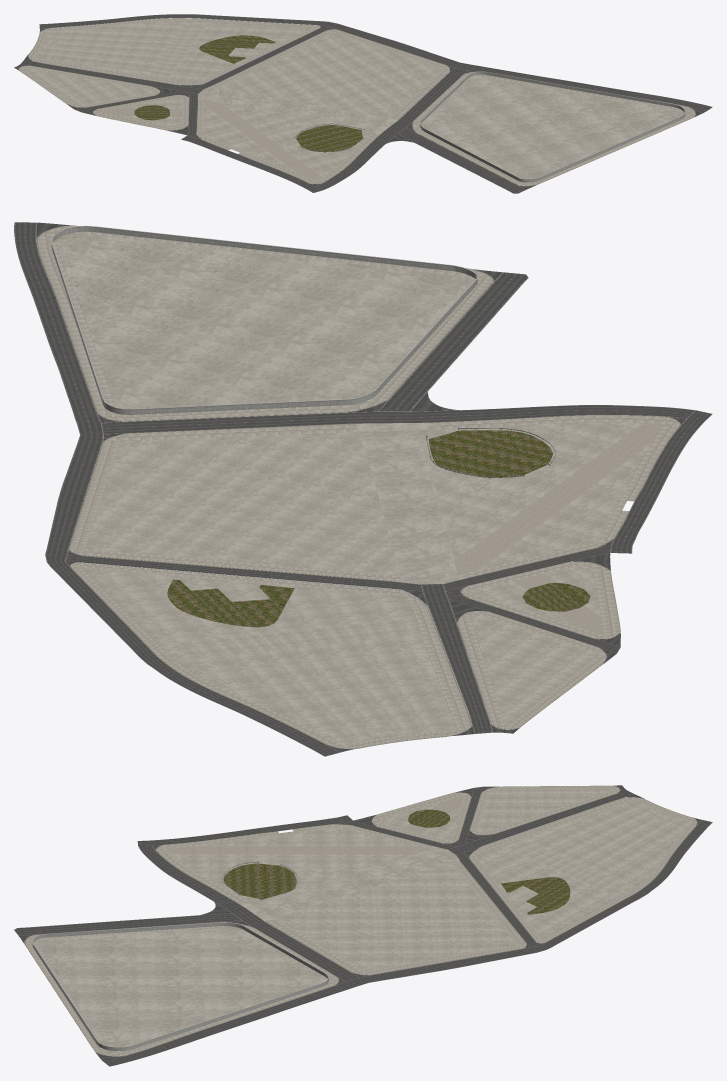
3 renders of one model, top to bottom at view 1: azimuth 30°, elevation 25°; view 2: azimuth 150°, elevation 25°; view 3: azimuth 270°, elevation 25°, orthographic. The views are drawn at different scales.
Parts seen in each view (by area): view 1: Base; view 2: Base; view 3: Base.
Boxes of the visible parts, x1,y1,x2,y2 form: Base: (14,14,712,193); Base: (14,222,712,756); Base: (14,785,712,1066).
Bounding box in the file's own units: 321 × 2.13 × 337.
